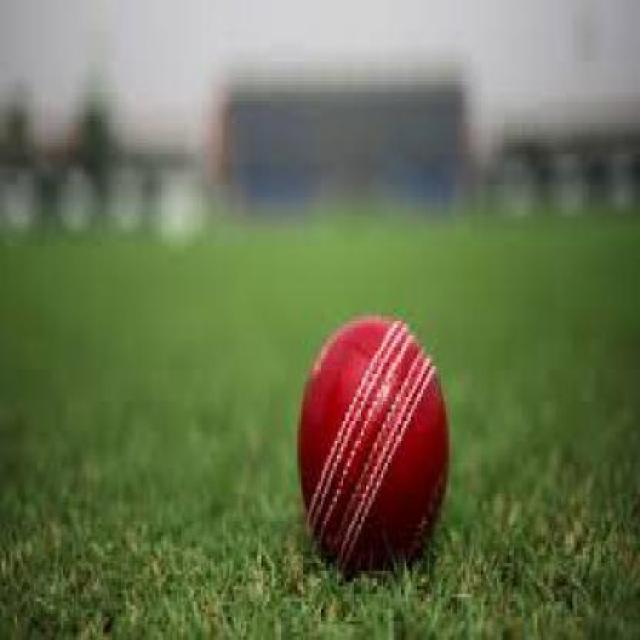ball: (269, 292, 494, 586)
